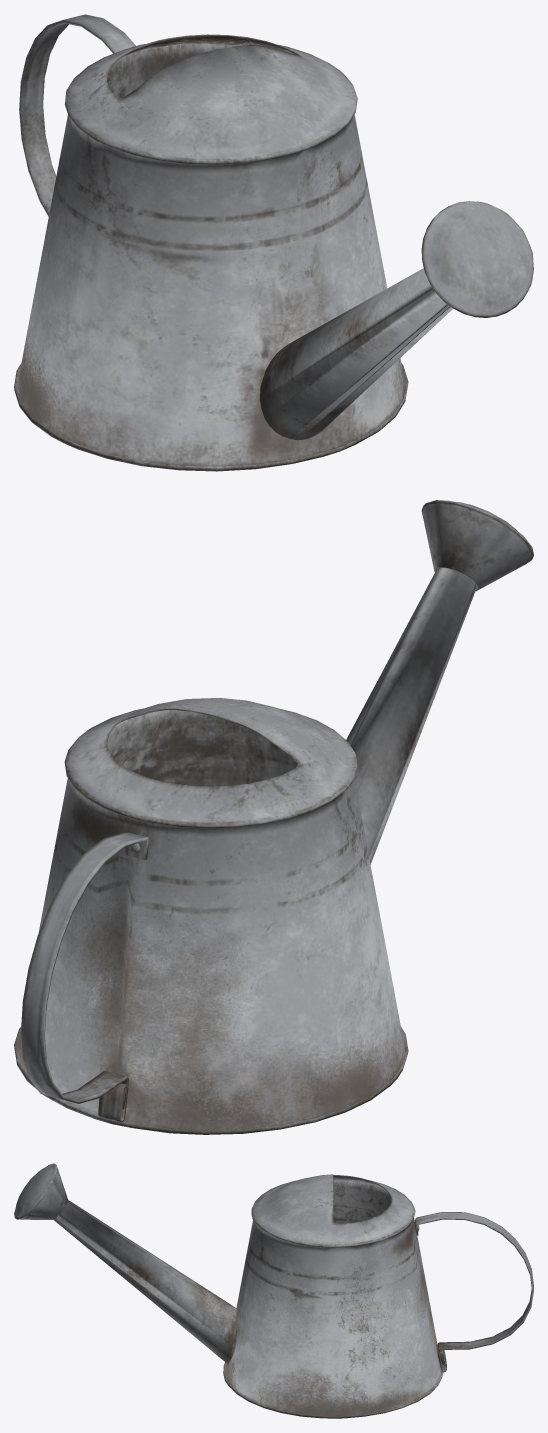
The model's file is watering_can_metal_01.fbx.
The picture shows the model from 3 angles, top to bottom: view 1: azimuth 30°, elevation 25°; view 2: azimuth 150°, elevation 25°; view 3: azimuth 270°, elevation 25°; orthographic projection. The views are drawn at different scales.
Visible parts, largest first — view 1: watering_can_metal_01_LOD0; view 2: watering_can_metal_01_LOD0; view 3: watering_can_metal_01_LOD0.
Boxes of the visible parts, x1,y1,x2,y2 form: watering_can_metal_01_LOD0: (14,14,533,471); watering_can_metal_01_LOD0: (14,500,533,1134); watering_can_metal_01_LOD0: (14,1163,533,1418).
Size of what is drawn, in the model's own units: 19.1 by 19.68 by 45.23.
1 material, 1 textured.
